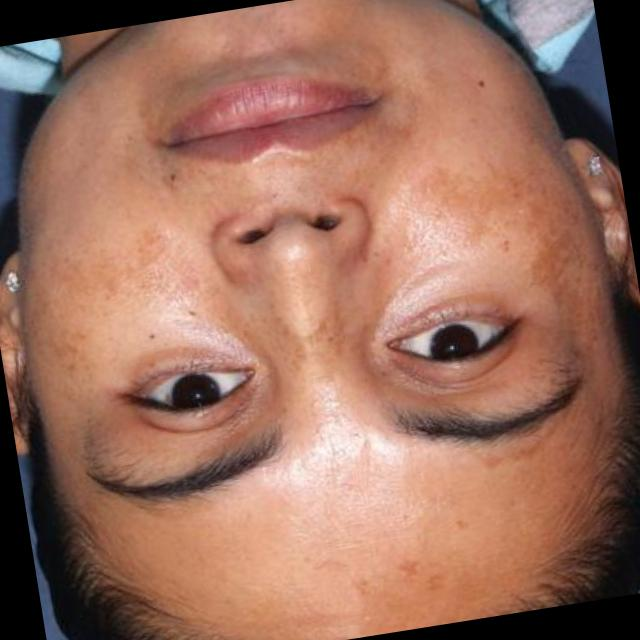melasma: (354, 126, 620, 333), (22, 215, 231, 401)
